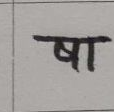aa_matra: (89, 42, 94, 70)
